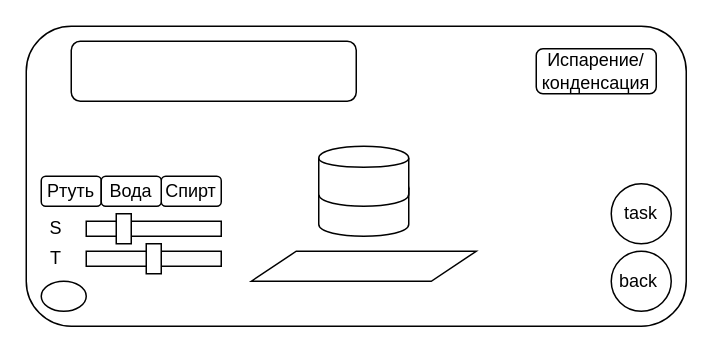
Image size: 713x353. Some labels were removed from this diagram. Here are the shapes that lost their labels. From the top down, the centre of each, then its label:
the point at 213,70: Интенсивность испарения
the point at 363,265: с 204
the point at 63,295: params
